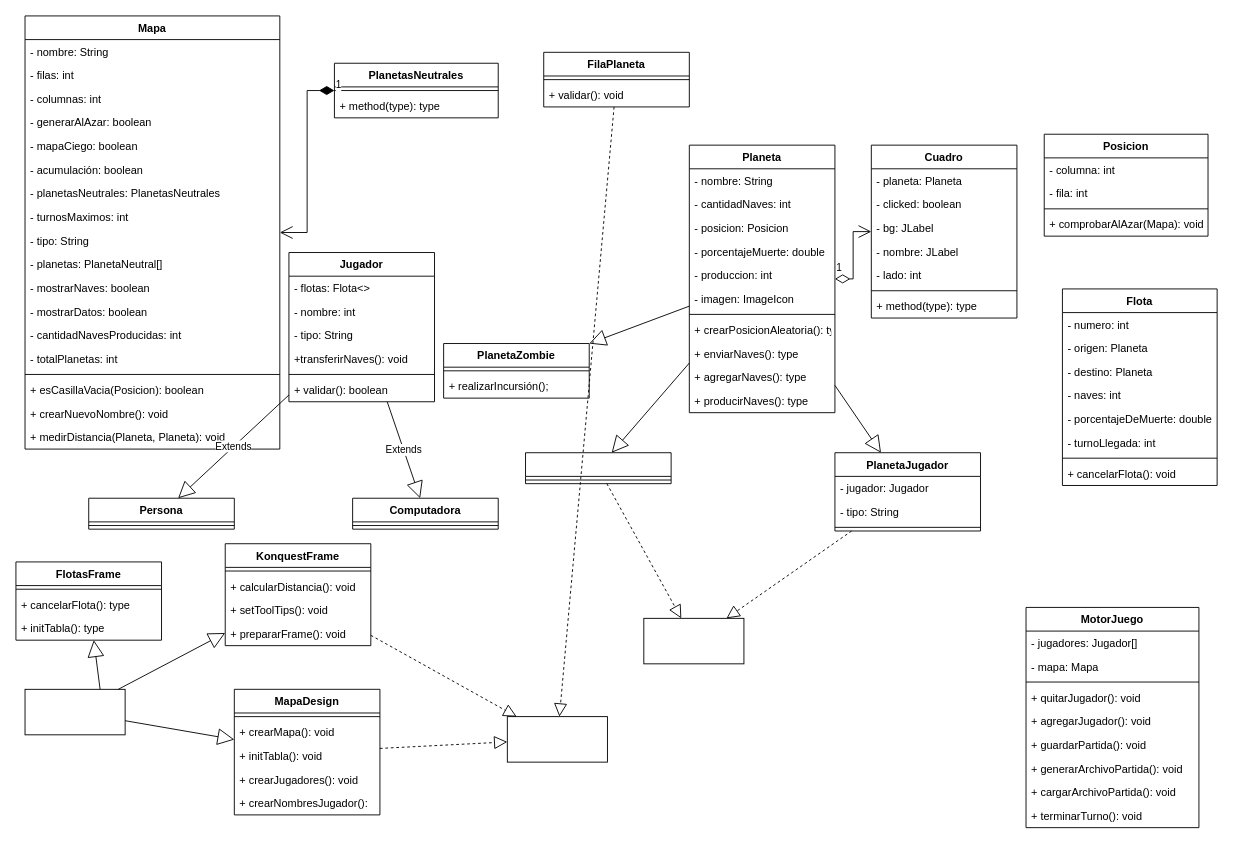
This 1233x846 diagram has some shape labels left out. The centre of each missing label's shape, as x and y in pixels:
"JFrame" belongs at pixel 74 711.
"Neutral" belongs at pixel 598 468.
"«interface» Terraformable" belongs at pixel 693 640.
"«interface» Validable" belongs at pixel 556 739.
